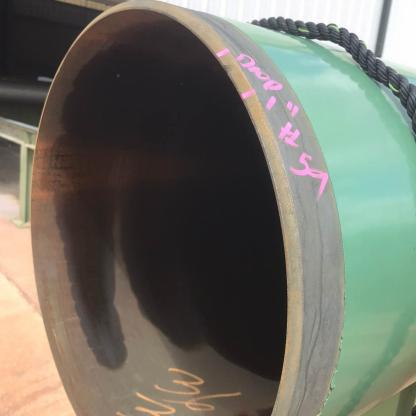Bevel: (218, 59, 237, 80)
